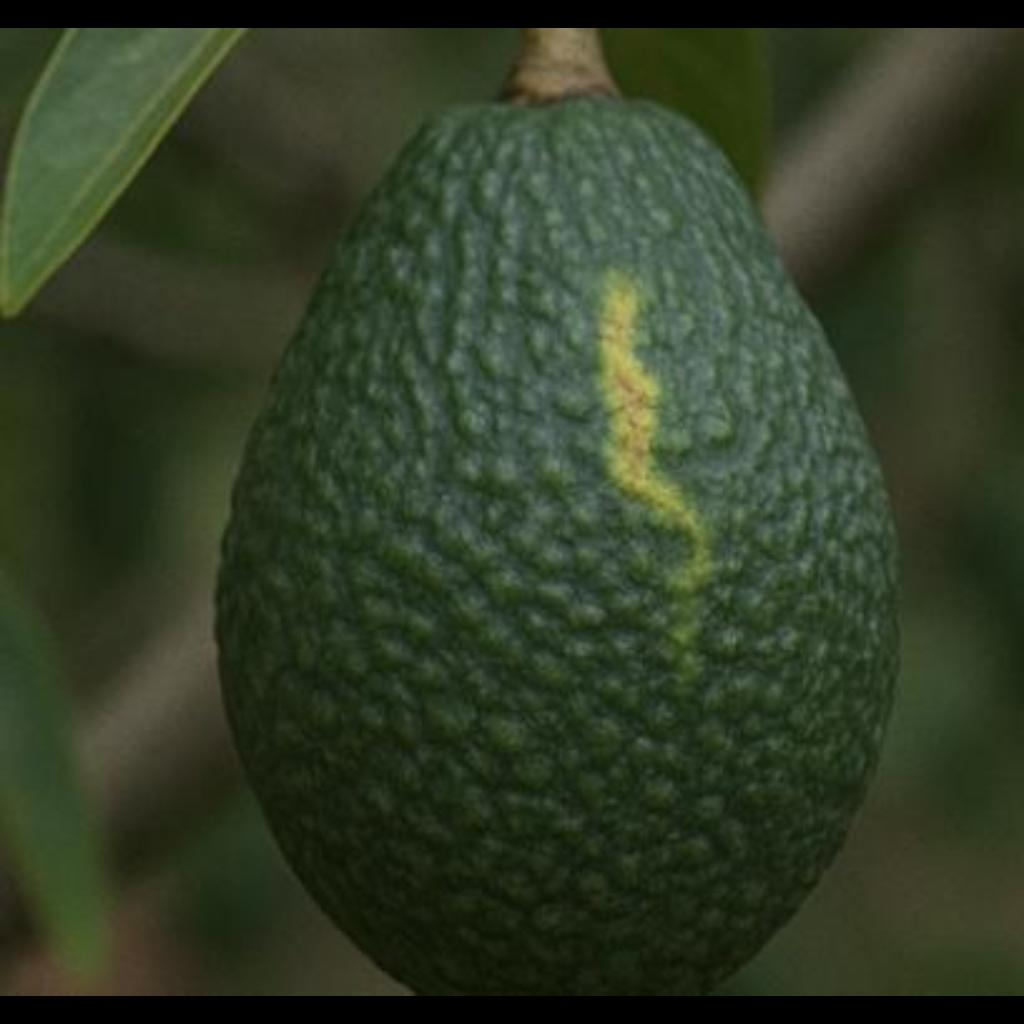sunblotch: (216, 81, 930, 997)
